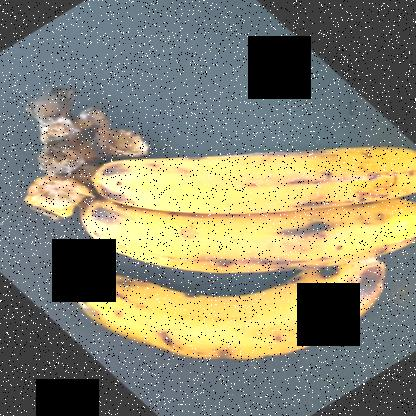overripe: (50, 265, 412, 370), (80, 134, 415, 212), (64, 190, 415, 264)
